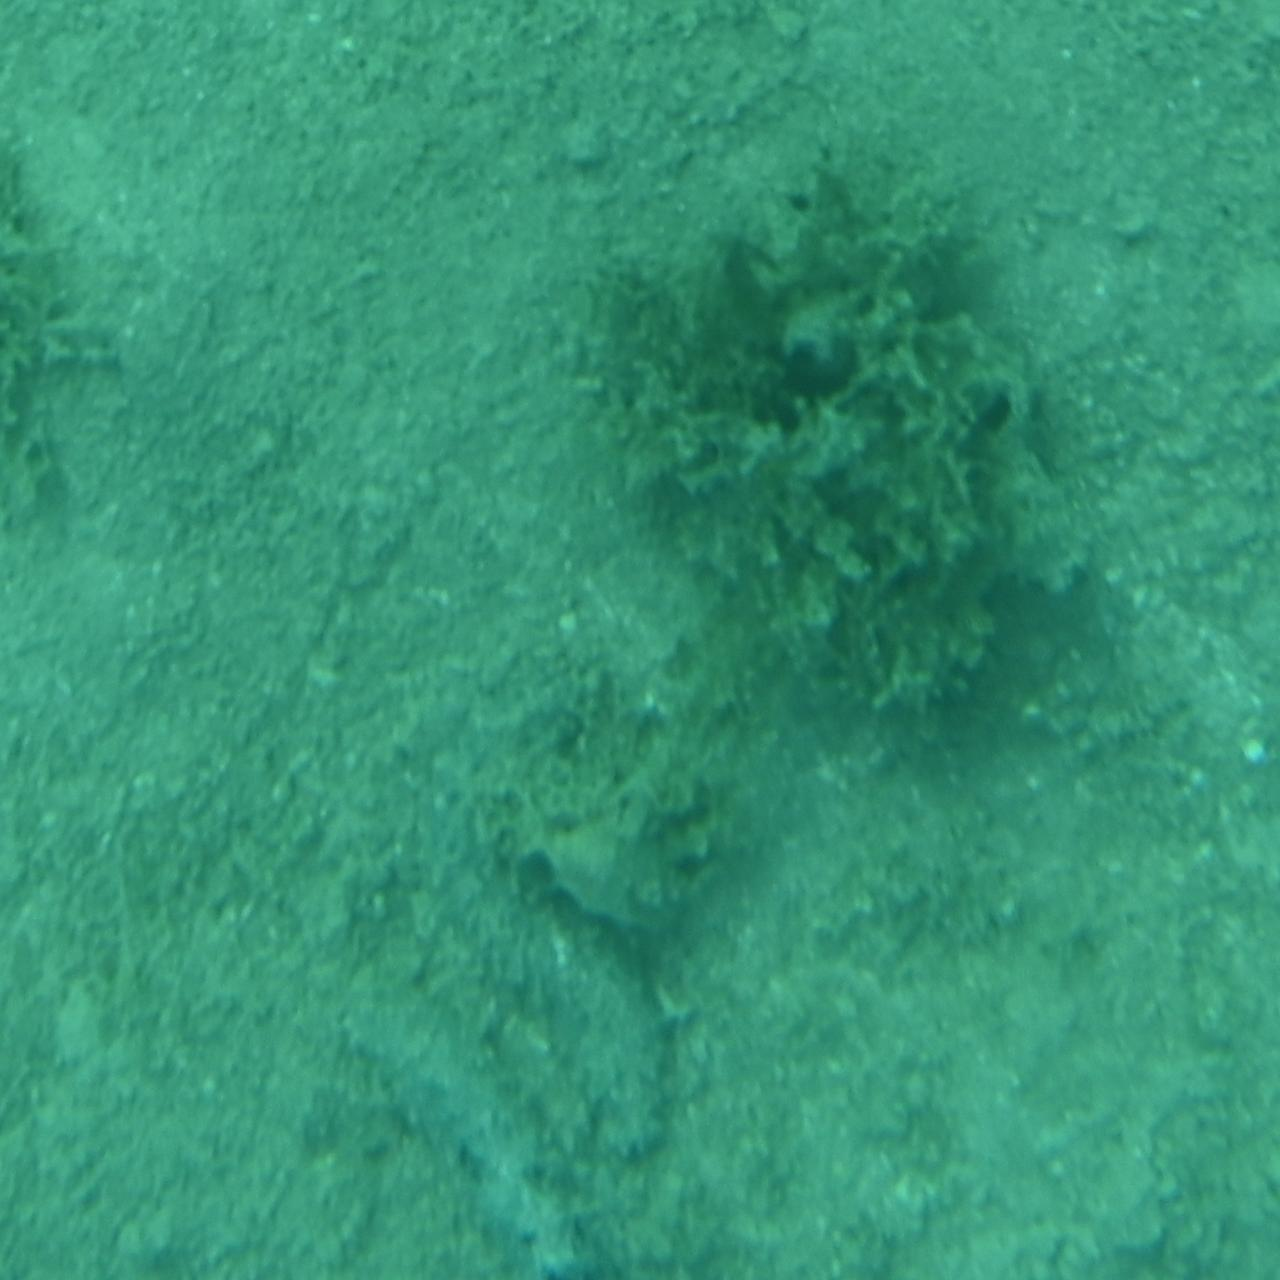Holothuria tubulosa: (299, 930, 595, 1276), (400, 837, 692, 1182)
Phaeophyceae -cfr Cystoseira-: (586, 158, 1082, 771)
